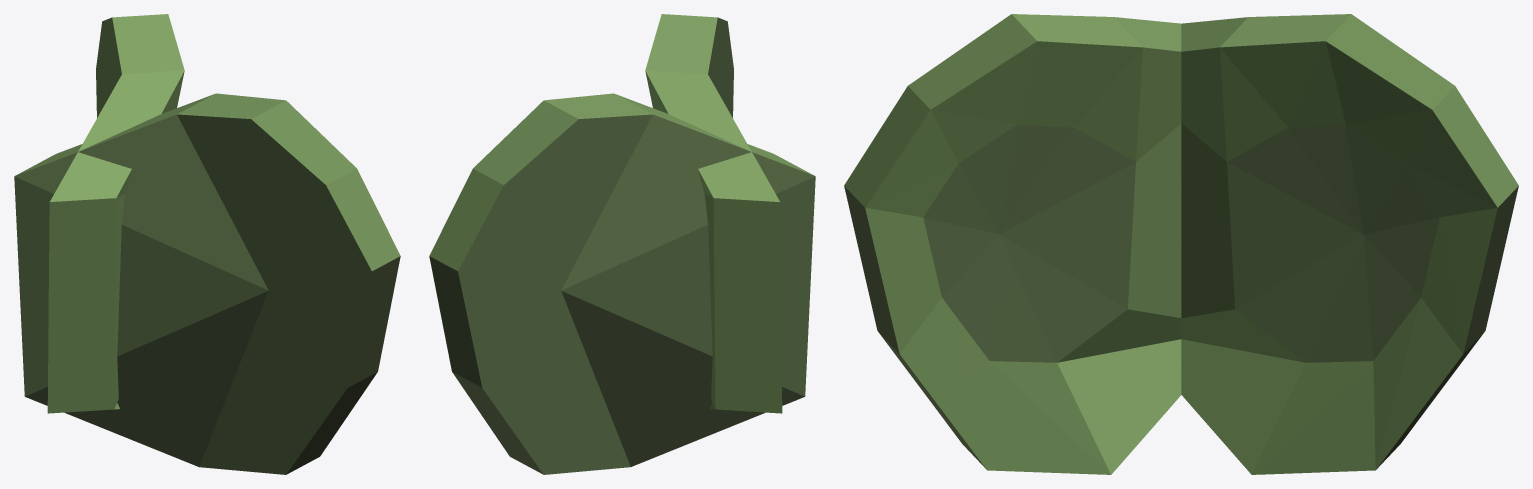
The model's file is or_round.glb.
3 views of the same model, side by side, from view 1: azimuth 30°, elevation 25°; view 2: azimuth 150°, elevation 25°; view 3: azimuth 270°, elevation 25° (orthographic). The views are drawn at different scales.
Visible parts, largest first — view 1: Ear_R, Ear_L; view 2: Ear_L, Ear_R; view 3: Ear_L, Ear_R.
Boxes of the visible parts, x1,y1,x2,y2 form: Ear_R: (14,93,400,474); Ear_L: (47,14,184,413); Ear_L: (429,93,815,474); Ear_R: (645,14,782,413); Ear_L: (1181,14,1518,474); Ear_R: (844,14,1181,474).
Size of the model in its own units: 0.0369 by 0.0536 by 0.0737.
Materials: 1 (1 with a texture image).
